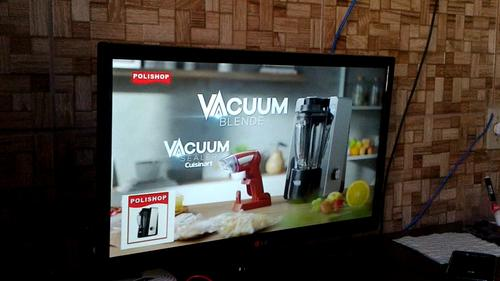Polishop #1: (121, 190, 176, 249)
